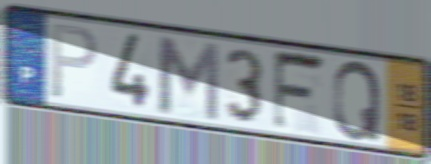3: (223, 46, 265, 125)
4: (108, 31, 153, 112)
F: (271, 48, 330, 135)
M: (154, 32, 221, 125)
P: (49, 21, 100, 103)
Q: (331, 58, 383, 143)
